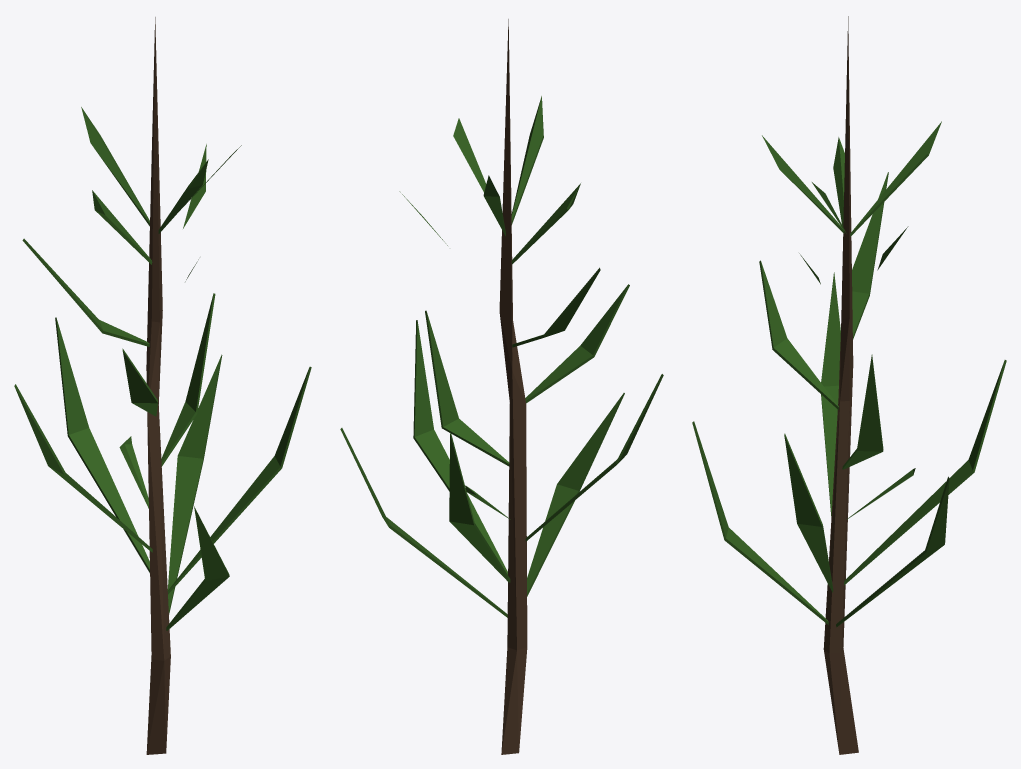
The model's file is p_twig.glb.
The picture shows the model from 3 angles, left to right: view 1: azimuth 30°, elevation 25°; view 2: azimuth 150°, elevation 25°; view 3: azimuth 270°, elevation 25°; orthographic projection.
Parts seen in each view (by area): view 1: p_twig; view 2: p_twig; view 3: p_twig.
Boxes of the visible parts, box(x1,y1,x2,y2) form: p_twig: box(14, 17, 311, 754); p_twig: box(340, 19, 663, 754); p_twig: box(692, 16, 1006, 754).
Bounding box in the file's own units: 0.6859 × 1.77 × 0.6859.
